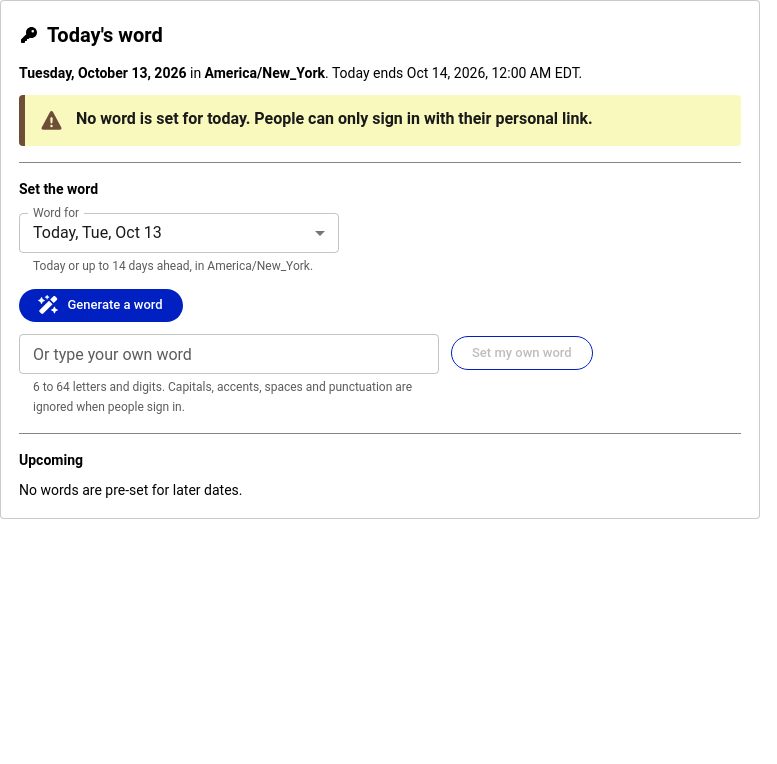
Test case: generate a word › announces "Word set" in a live region WITHOUT the word
Expected: the element with test id "day-word-date-line" is shown, [19,65,582,81]
Click the button "Generate a word" at point(101, 305), box [19,289,183,322]
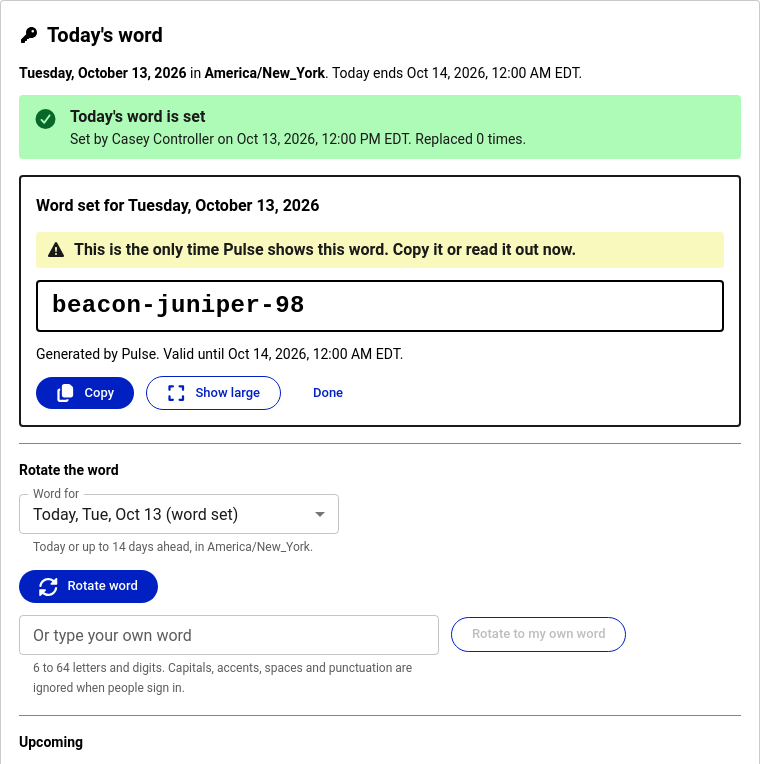
Result: the element with test id "day-word-result" is shown at [19,175,741,427]
